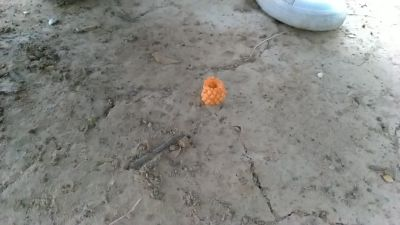eggs: (202, 75, 223, 109)
